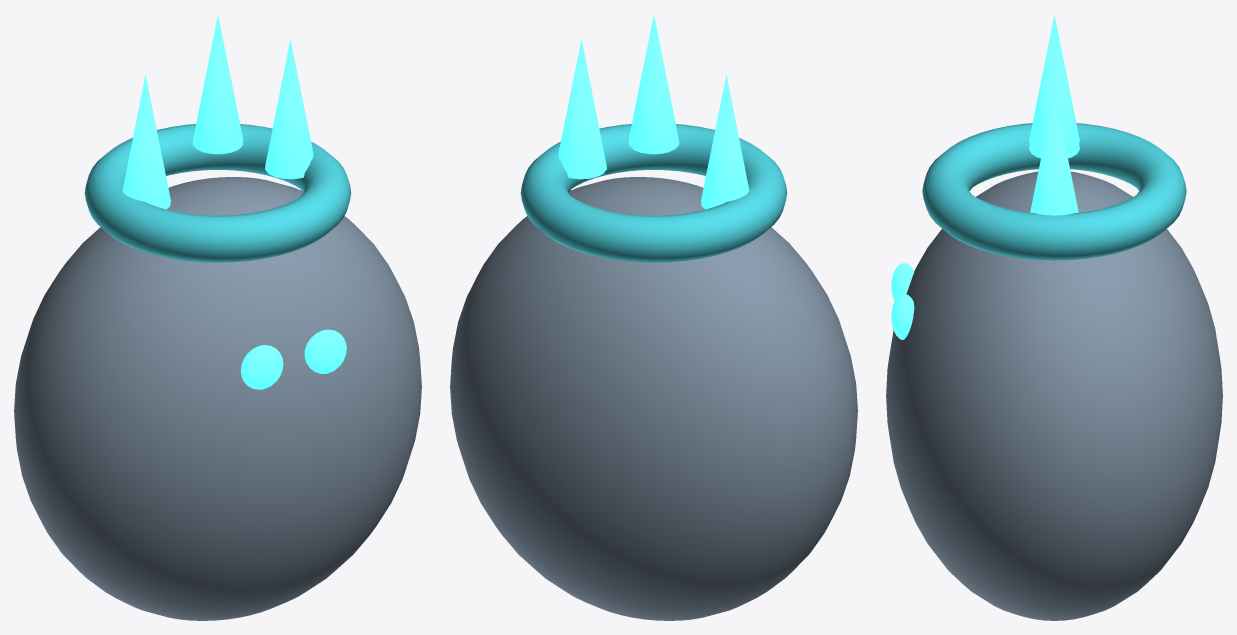
File: ooze_v8.glb
The picture shows the model from 3 angles, left to right: view 1: azimuth 30°, elevation 25°; view 2: azimuth 150°, elevation 25°; view 3: azimuth 270°, elevation 25°; orthographic projection.
Parts seen in each view (by area): view 1: ROYAL_SLIME_PRIMARY, SLIME_CROWN_BAND_ACCENT, SLIME_CROWN_POINT_EMISSIVE.001, SLIME_CROWN_POINT_EMISSIVE.002, SLIME_CROWN_POINT_EMISSIVE, EYE_EMISSIVE, EYE_EMISSIVE.001; view 2: ROYAL_SLIME_PRIMARY, SLIME_CROWN_BAND_ACCENT, SLIME_CROWN_POINT_EMISSIVE.001, SLIME_CROWN_POINT_EMISSIVE.002, SLIME_CROWN_POINT_EMISSIVE; view 3: ROYAL_SLIME_PRIMARY, SLIME_CROWN_BAND_ACCENT, SLIME_CROWN_POINT_EMISSIVE.002, SLIME_CROWN_POINT_EMISSIVE.001, EYE_EMISSIVE.001, EYE_EMISSIVE.
Part boxes in pixels (x1=…): ROYAL_SLIME_PRIMARY: x1=14, y1=177, x2=421, y2=620; SLIME_CROWN_BAND_ACCENT: x1=84, y1=124, x2=351, y2=262; SLIME_CROWN_POINT_EMISSIVE.001: x1=192, y1=15, x2=243, y2=154; SLIME_CROWN_POINT_EMISSIVE.002: x1=265, y1=39, x2=313, y2=179; SLIME_CROWN_POINT_EMISSIVE: x1=122, y1=75, x2=170, y2=209; EYE_EMISSIVE: x1=240, y1=345, x2=283, y2=389; EYE_EMISSIVE.001: x1=304, y1=329, x2=346, y2=373; ROYAL_SLIME_PRIMARY: x1=450, y1=177, x2=857, y2=620; SLIME_CROWN_BAND_ACCENT: x1=520, y1=124, x2=787, y2=262; SLIME_CROWN_POINT_EMISSIVE.001: x1=628, y1=15, x2=679, y2=154; SLIME_CROWN_POINT_EMISSIVE.002: x1=558, y1=39, x2=606, y2=179; SLIME_CROWN_POINT_EMISSIVE: x1=701, y1=75, x2=749, y2=209; ROYAL_SLIME_PRIMARY: x1=886, y1=171, x2=1222, y2=620; SLIME_CROWN_BAND_ACCENT: x1=922, y1=123, x2=1186, y2=260; SLIME_CROWN_POINT_EMISSIVE.002: x1=1030, y1=91, x2=1078, y2=215; SLIME_CROWN_POINT_EMISSIVE.001: x1=1029, y1=14, x2=1079, y2=151; EYE_EMISSIVE.001: x1=891, y1=294, x2=914, y2=339; EYE_EMISSIVE: x1=891, y1=263, x2=914, y2=301.
Bounding box in the file's own units: 1.64 × 2.51 × 1.3.
